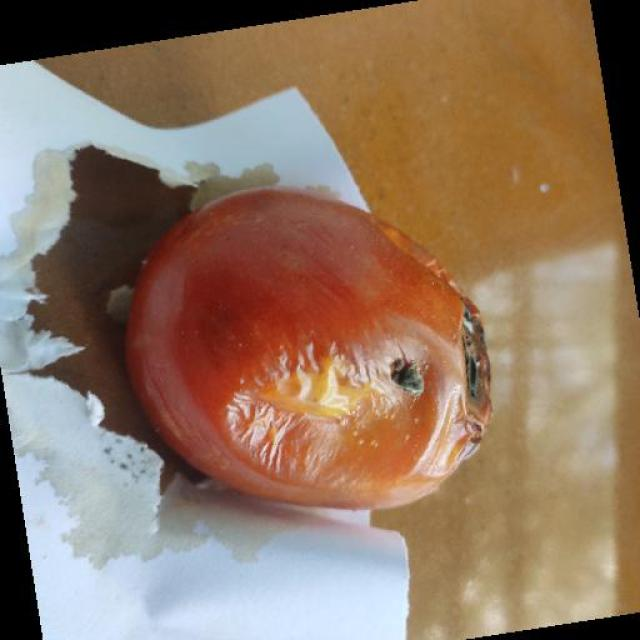Stale_tomato: (135, 156, 541, 495)
